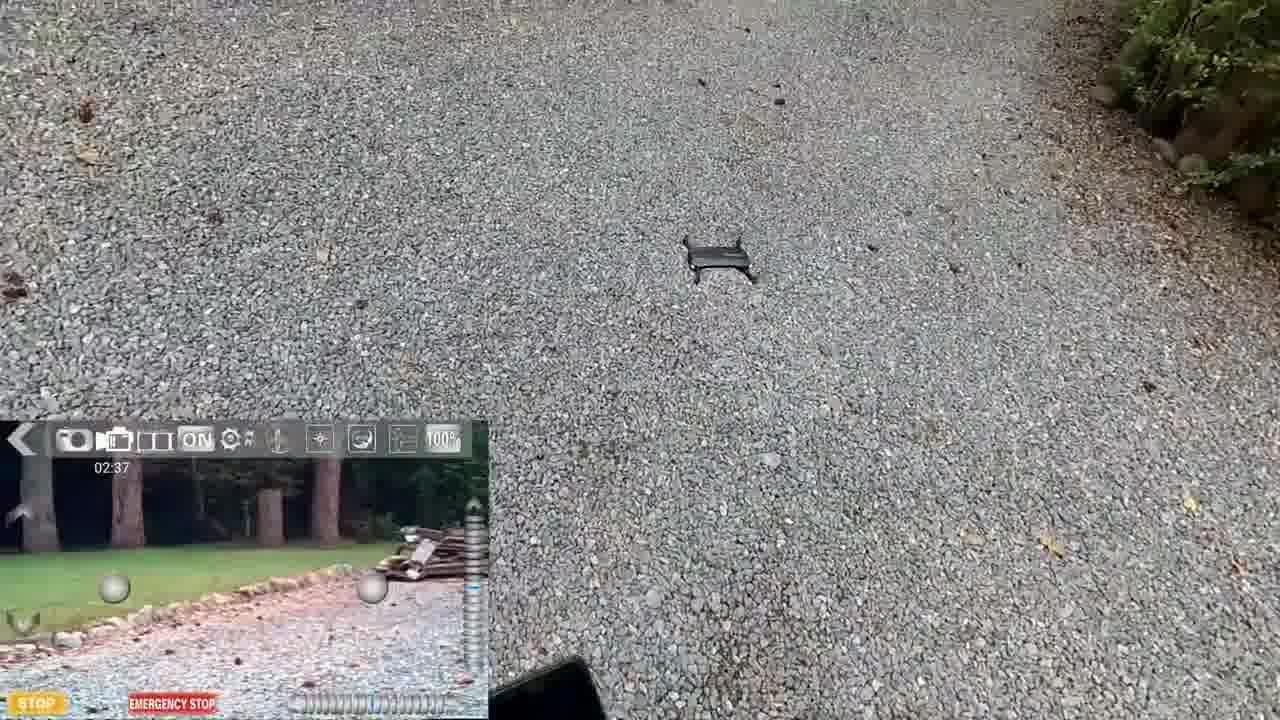drone: (678, 234, 770, 286)
